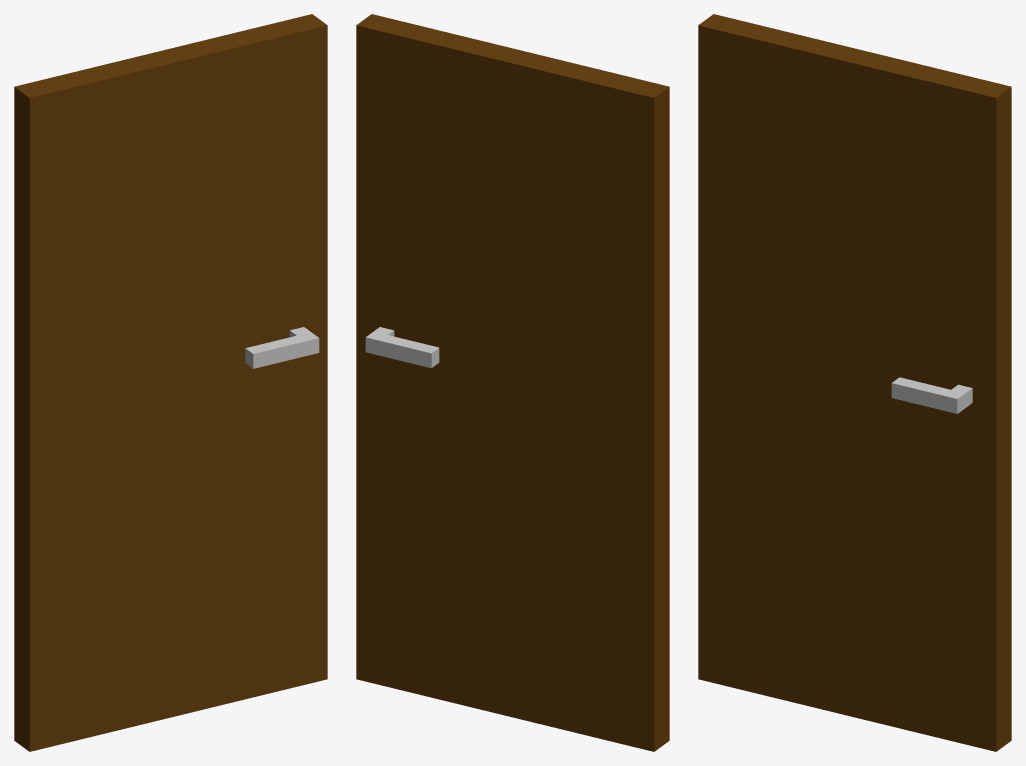
The model's file is porte.fbx.
The picture shows the model from 3 angles, left to right: view 1: azimuth 30°, elevation 25°; view 2: azimuth 150°, elevation 25°; view 3: azimuth 330°, elevation 25°; orthographic projection.
Parts seen in each view (by area): view 1: door_a, Handle2; view 2: door_a, Handle1; view 3: door_a, Handle2.
Part boxes in pixels (x1=…): door_a: x1=14, y1=14, x2=327, y2=751; Handle2: x1=245, y1=327, x2=319, y2=368; door_a: x1=356, y1=14, x2=669, y2=751; Handle1: x1=365, y1=327, x2=439, y2=368; door_a: x1=698, y1=14, x2=1011, y2=751; Handle2: x1=891, y1=377, x2=972, y2=413.
Bounding box in the file's own units: 96.57 × 202 × 25.18.
1 material, 1 textured.
